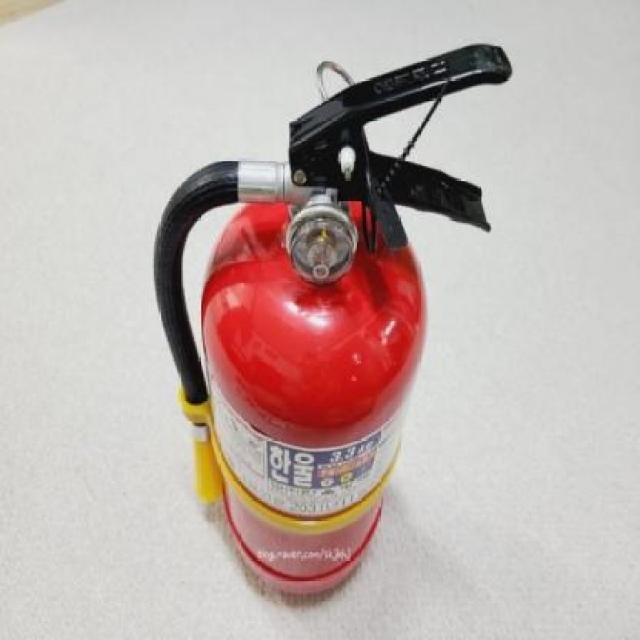fire extinguisher: (154, 42, 512, 595)
